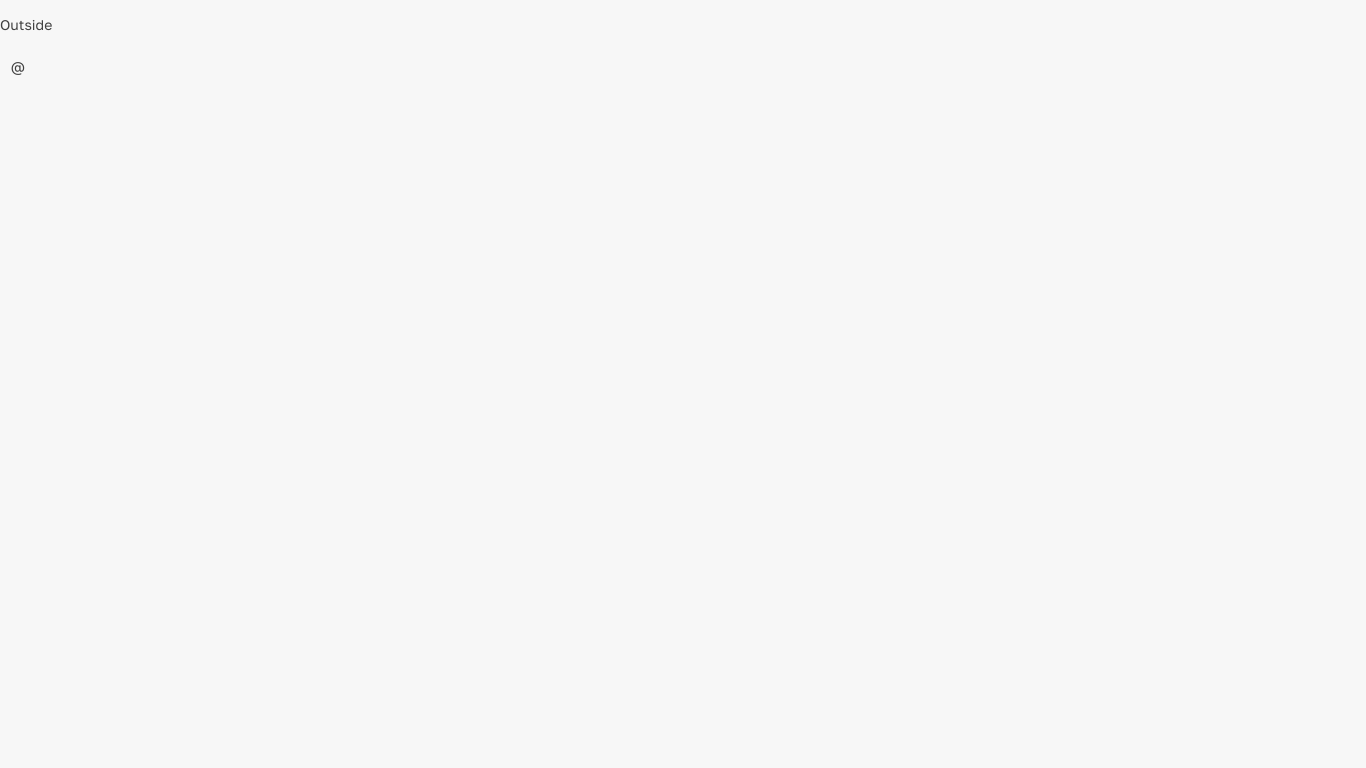
IconPopover › closes by the trigger again
The width and height of the screenshot is (1366, 768).
Click the button named "Account". click: (18, 67)
box: [0,49,36,85]
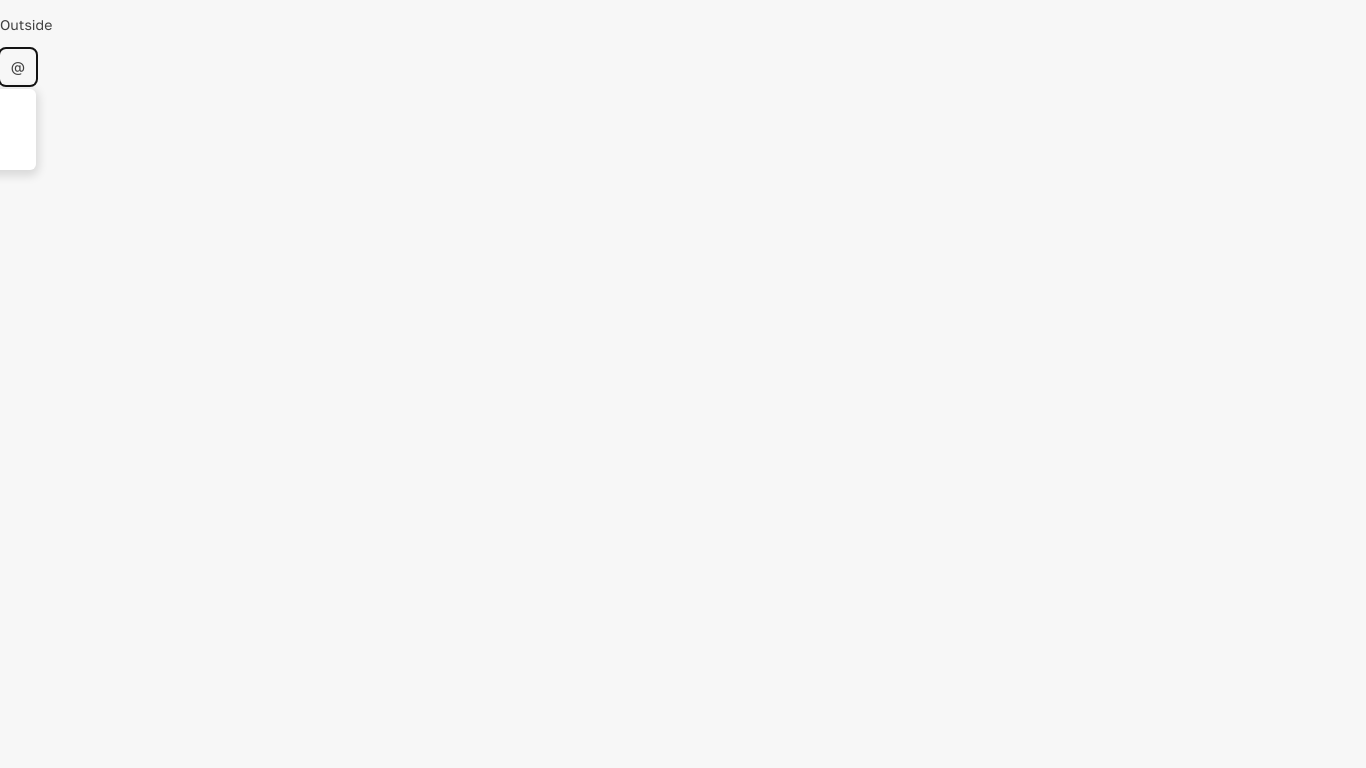
Click the button named "Account". click: (18, 67)
box: [0,49,36,85]
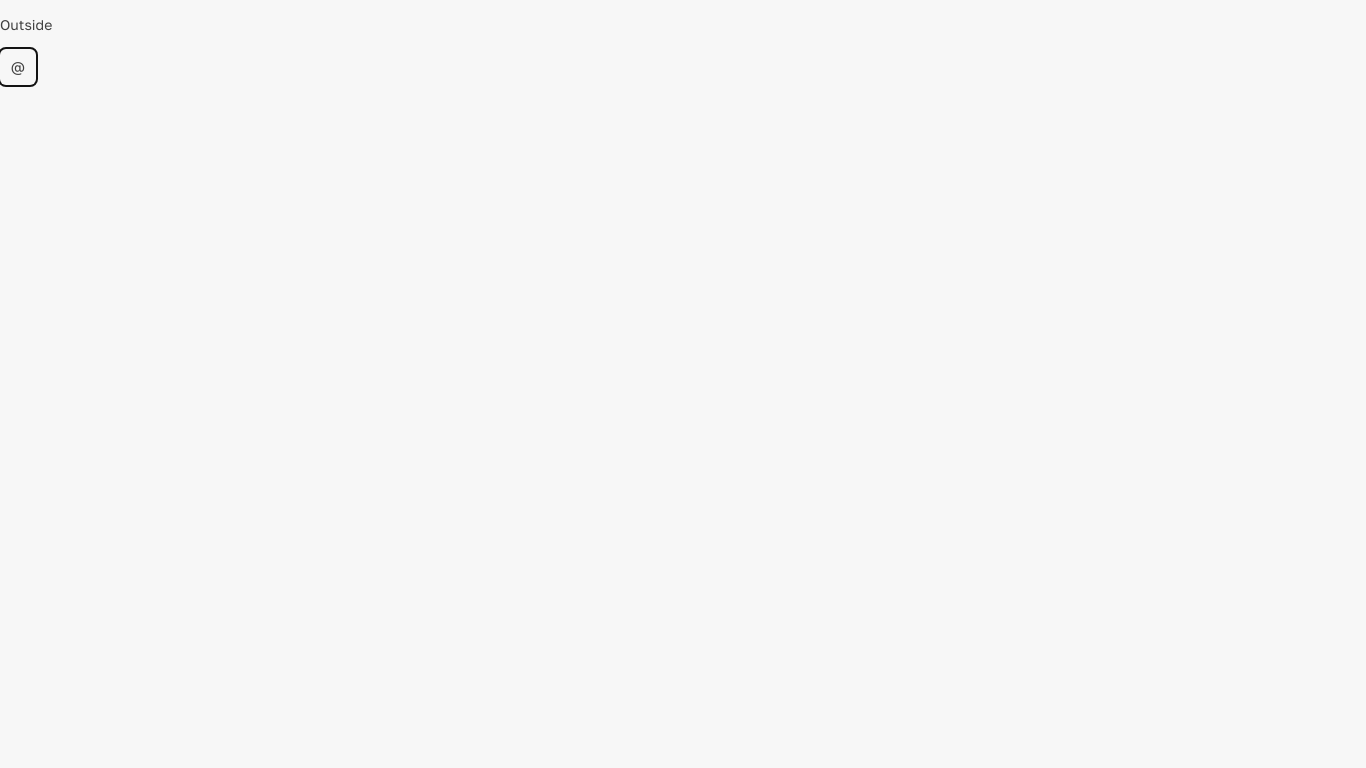
Expected: the dialog is gone
